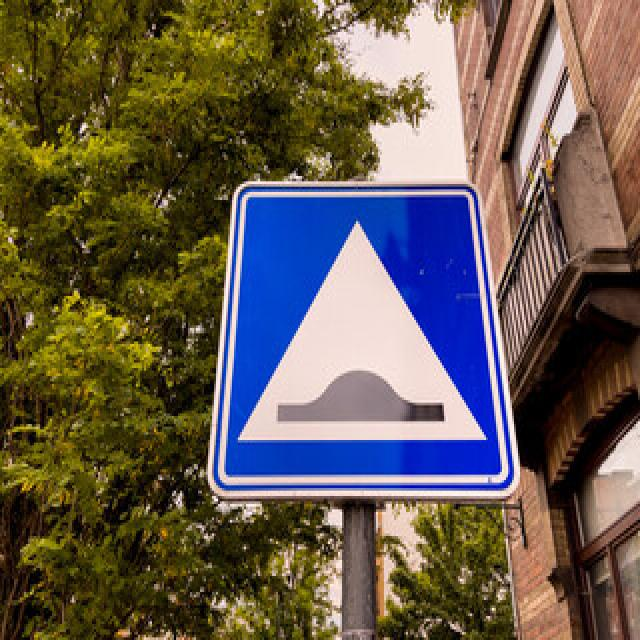hump: (205, 174, 517, 502)
